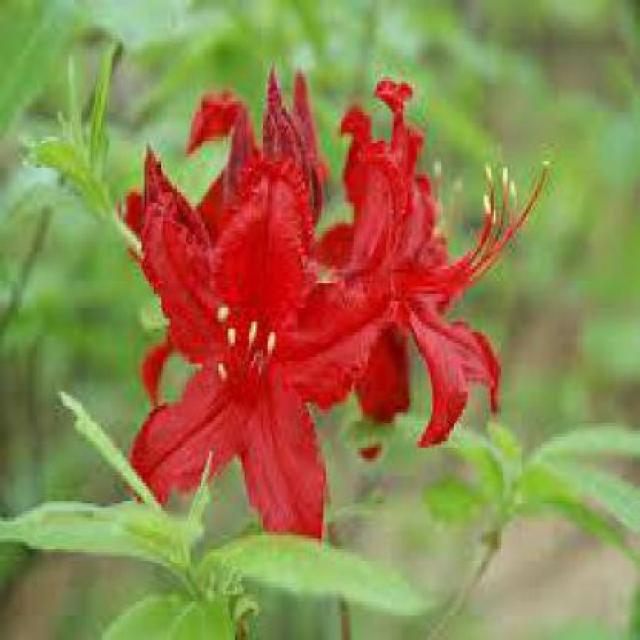flower: (114, 132, 386, 563), (289, 88, 529, 458)
